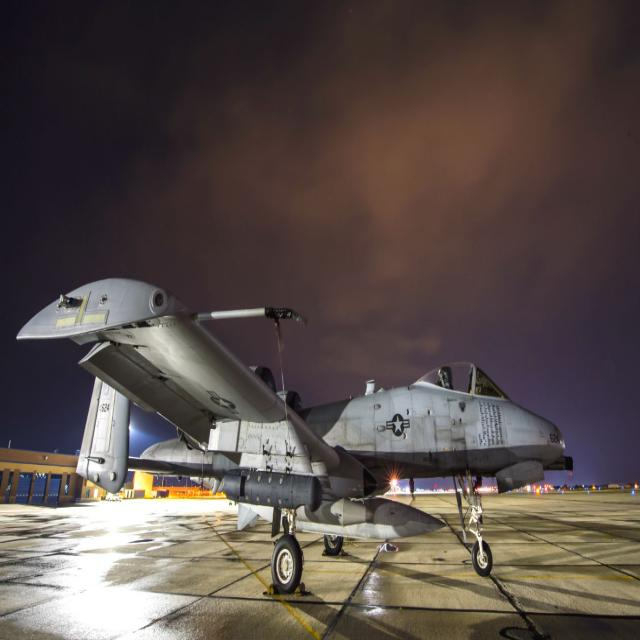MIL_Plane: (16, 278, 574, 592)
